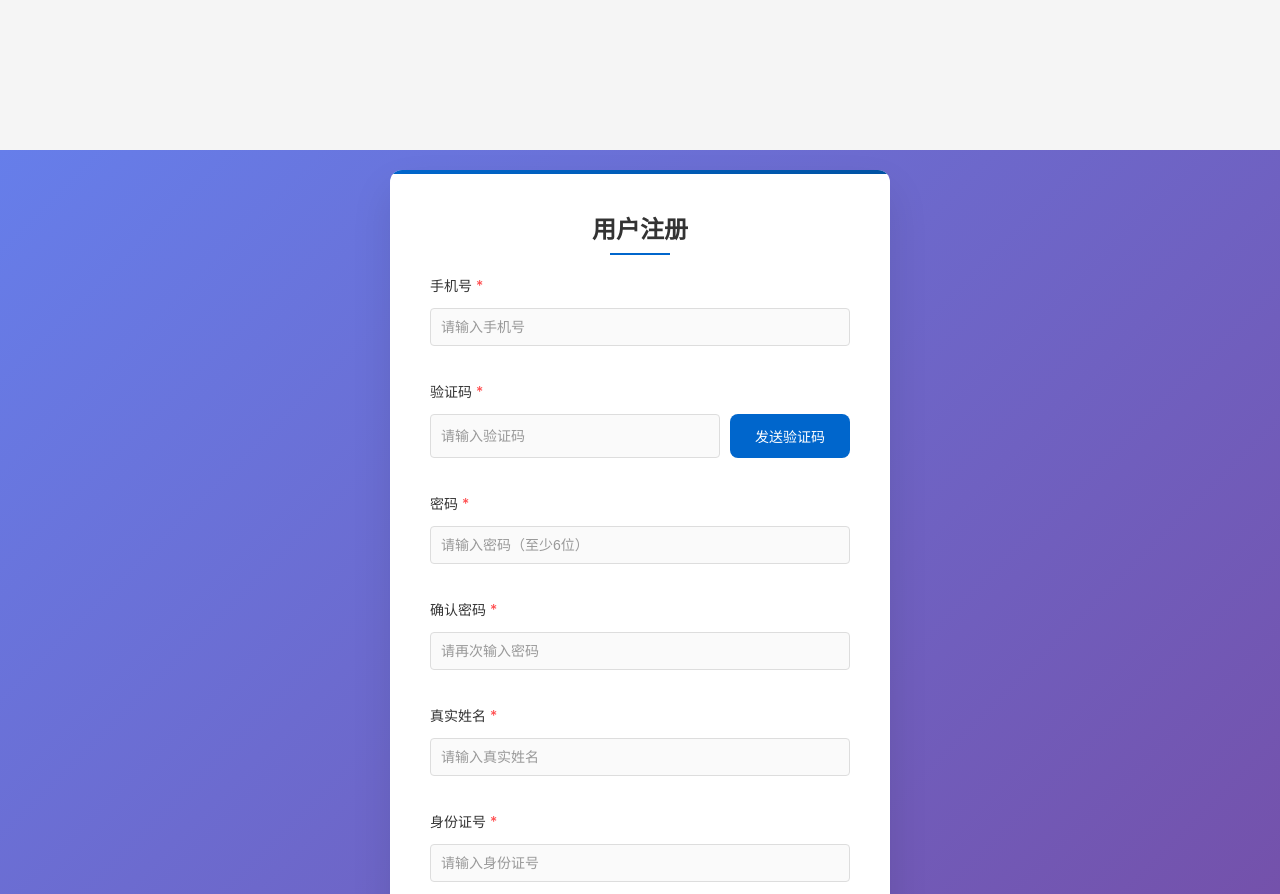
Scenario: RegisterPage Component › 应该验证密码强度
Type "123" into the password field labelled "密码" at (640, 545), box x1=430 y1=526 x2=850 y2=564
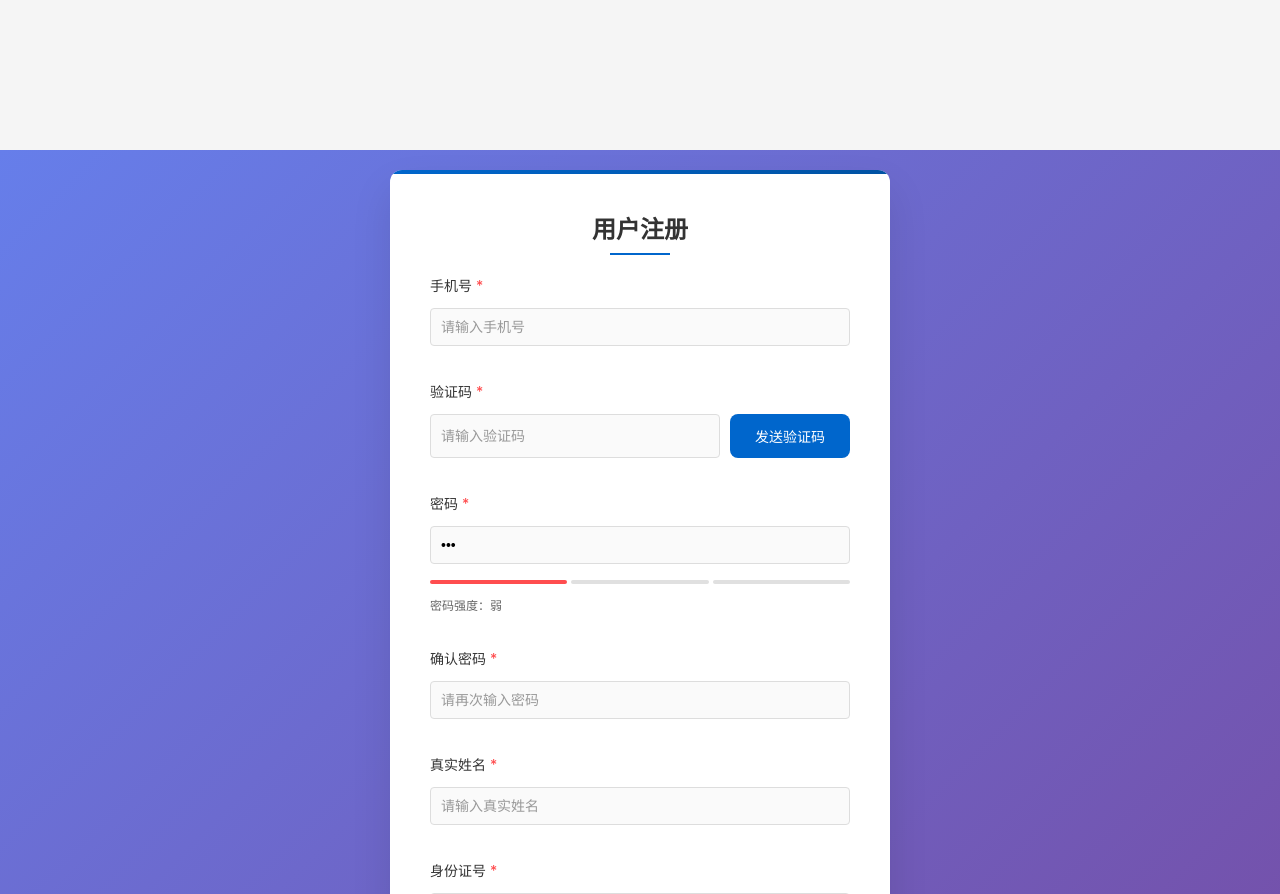
Leave the password field labelled "密码", box x1=430 y1=526 x2=850 y2=564
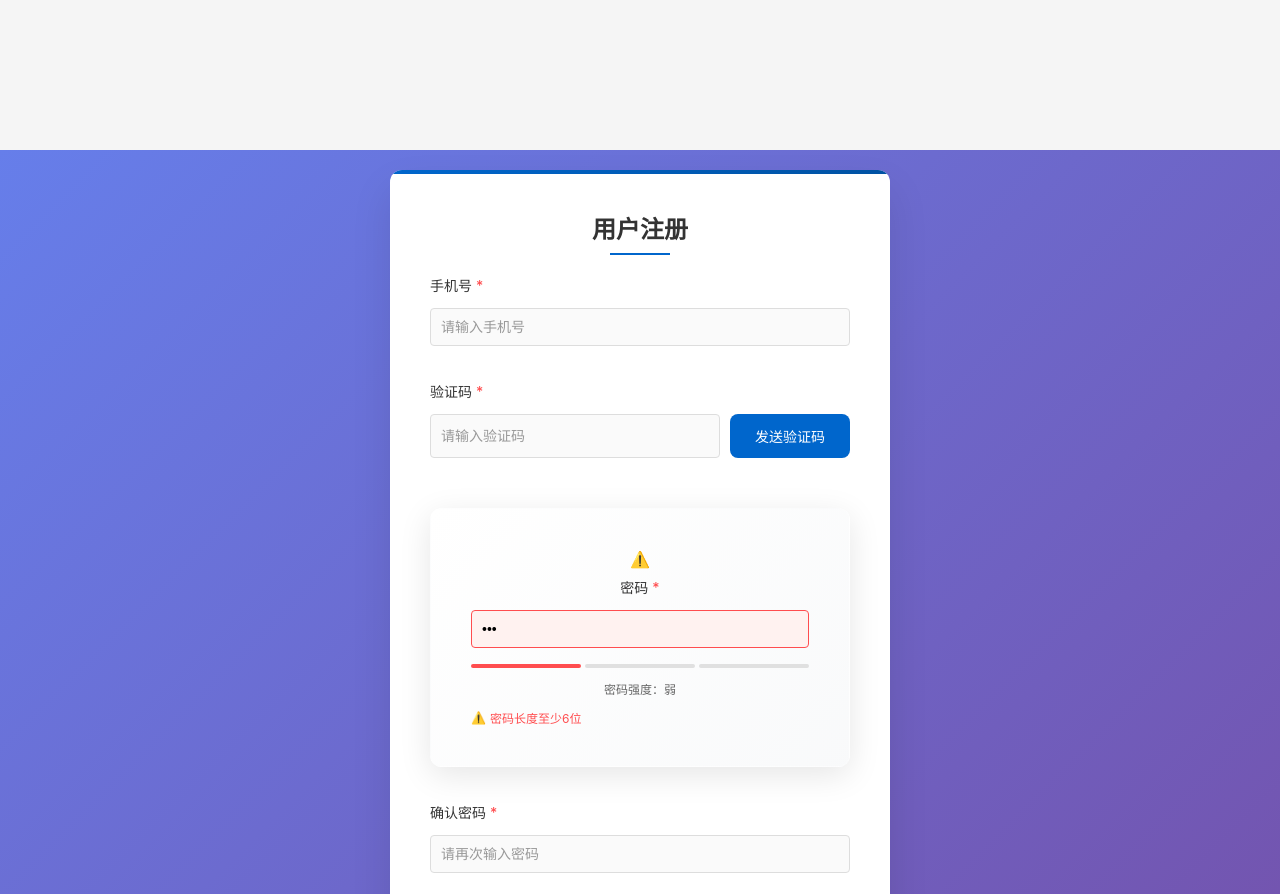
Result: the text "密码长度至少6位" is shown at x1=490 y1=711 x2=582 y2=726
